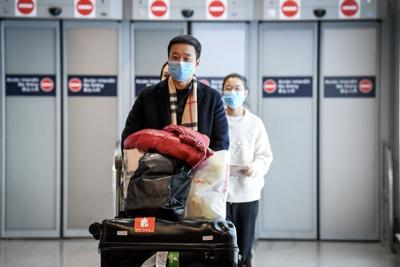mask: (167, 59, 196, 81), (222, 89, 245, 108)
no_gloves: (166, 34, 202, 60), (220, 72, 249, 90)
